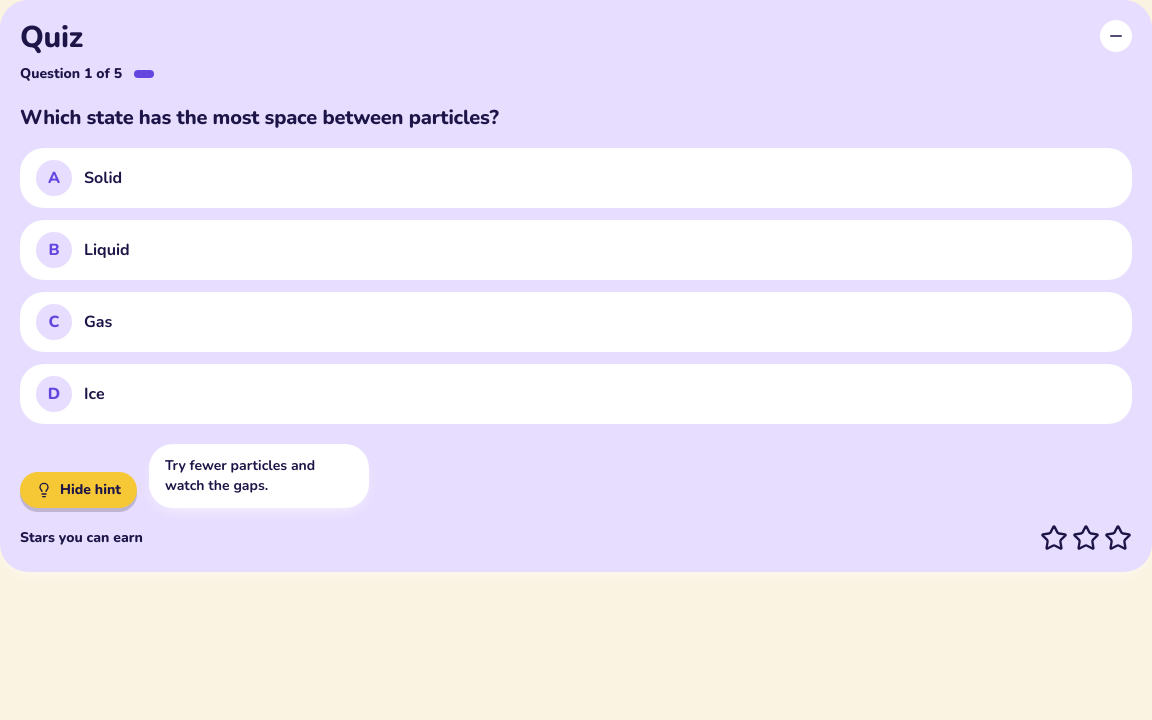
Test: collapse and expand › collapses when the minus button is clicked
The width and height of the screenshot is (1152, 720).
Click the button named "collapse quiz" at (1116, 36), box x1=1100 y1=20 x2=1132 y2=52
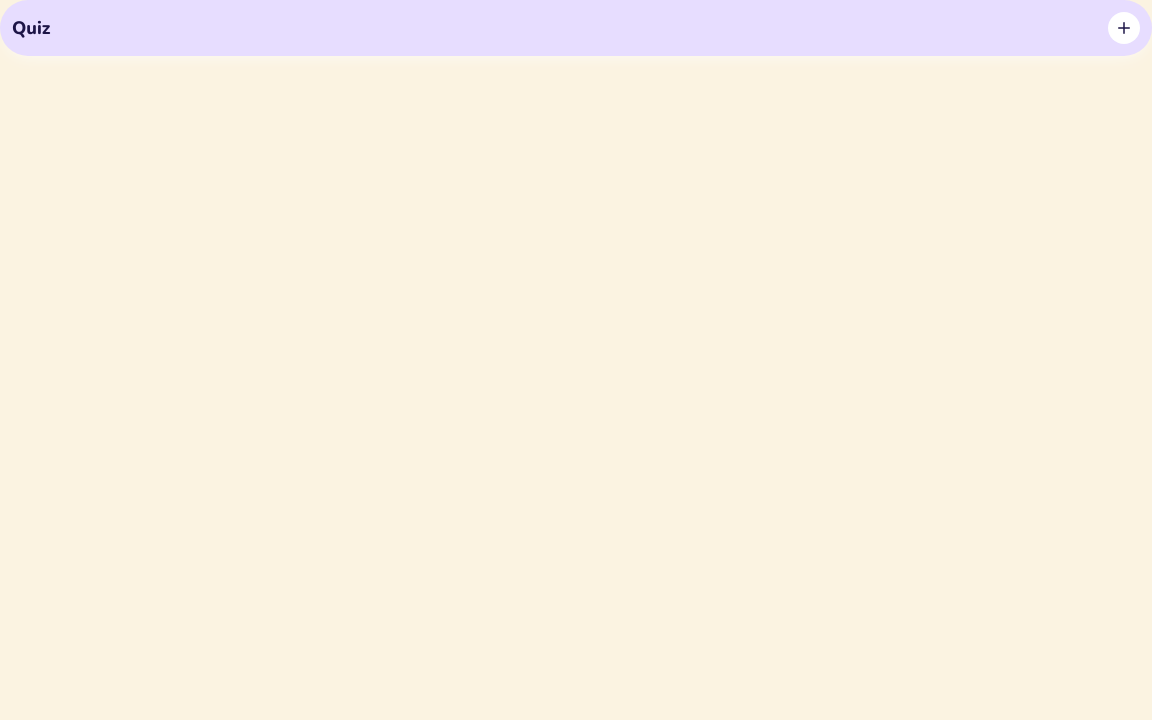
Expected: the button with aria-label "expand quiz" is shown, x1=12 y1=12 x2=1140 y2=44
Expected: the heading "Which state has the most space between particles?" is gone
